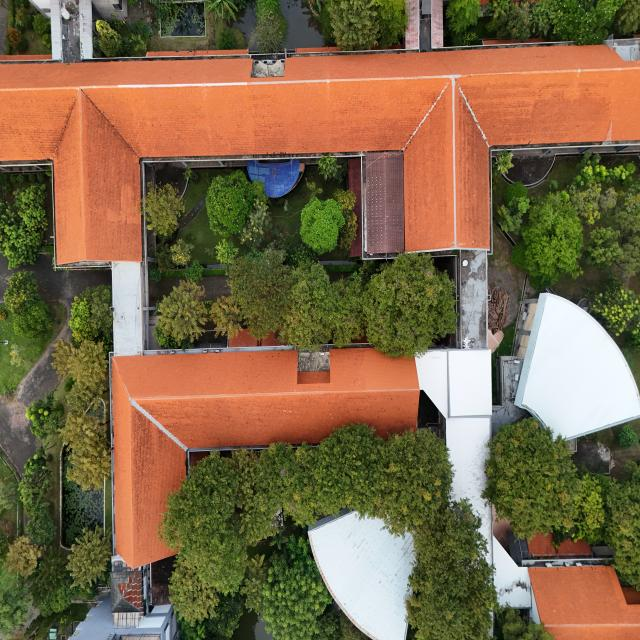Tree: (299, 198, 346, 255), (68, 527, 111, 589), (142, 180, 184, 235), (168, 235, 194, 268), (215, 238, 238, 267)
